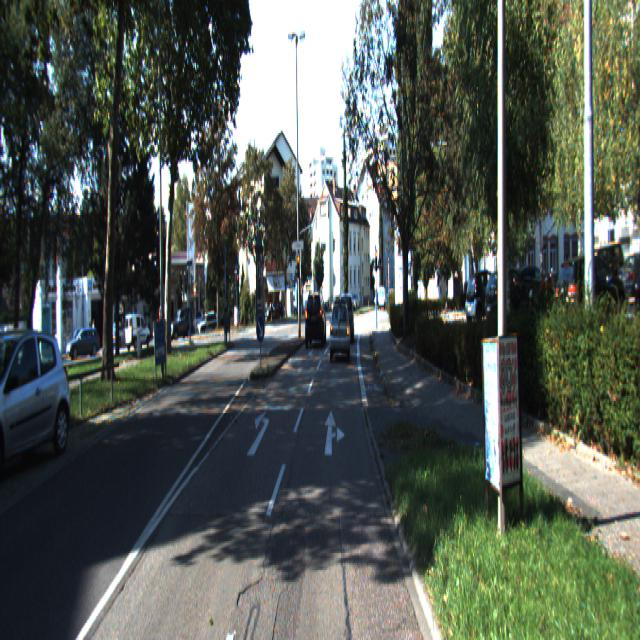Car: (0, 327, 72, 479), (484, 266, 538, 326), (466, 266, 512, 323), (330, 304, 350, 362), (306, 293, 326, 347), (339, 294, 355, 342)
